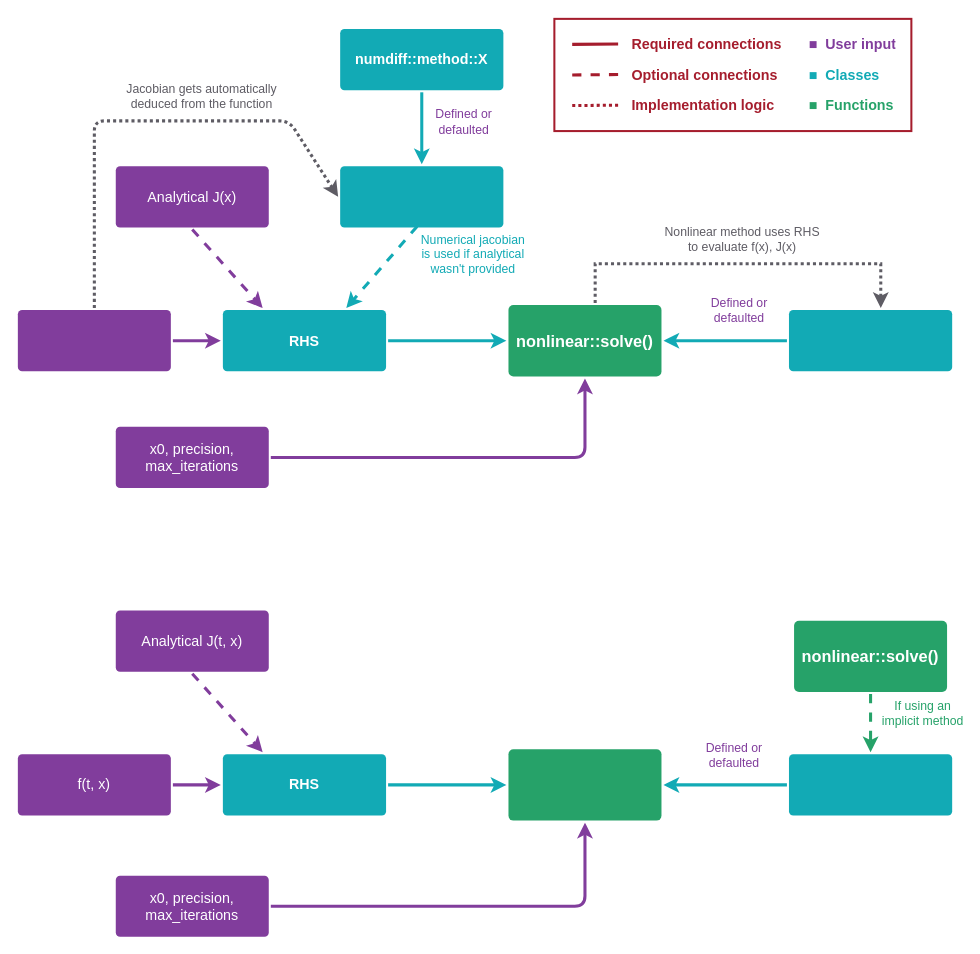
Some shapes in this 980 by 954 pixel diagram are drawn without their labels. The shapes that lost their labels are listed below. From the top down, each one's box as (x1, y1, x2, y2) in pixels, then its label:
(340, 166, 503, 227): numdiff::Jacobian
(17, 310, 170, 371): f(x)
(788, 310, 952, 371): nonlinear::method::X
(508, 749, 661, 820): ode::solve()
(788, 754, 952, 815): ode::method::X
